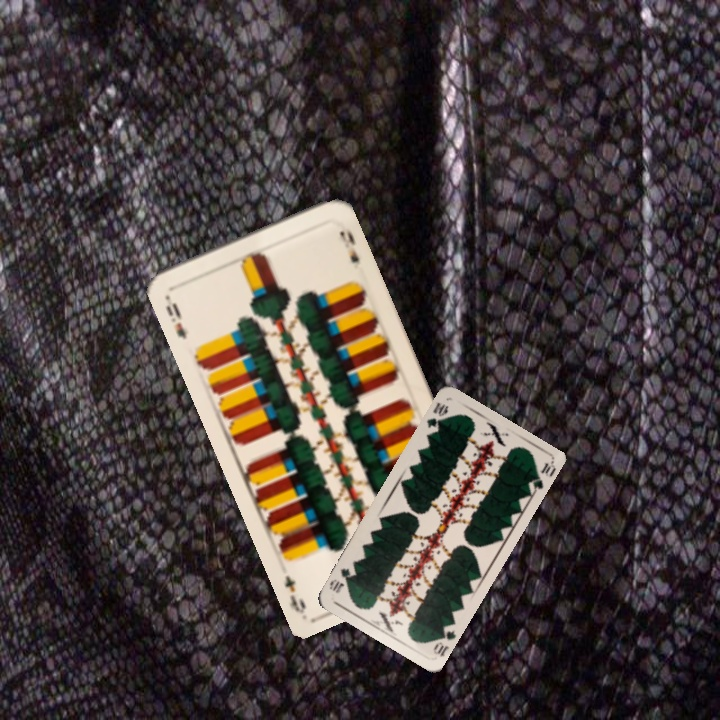E9: (162, 298, 189, 342)
G10: (429, 620, 458, 660), (422, 398, 451, 431)
